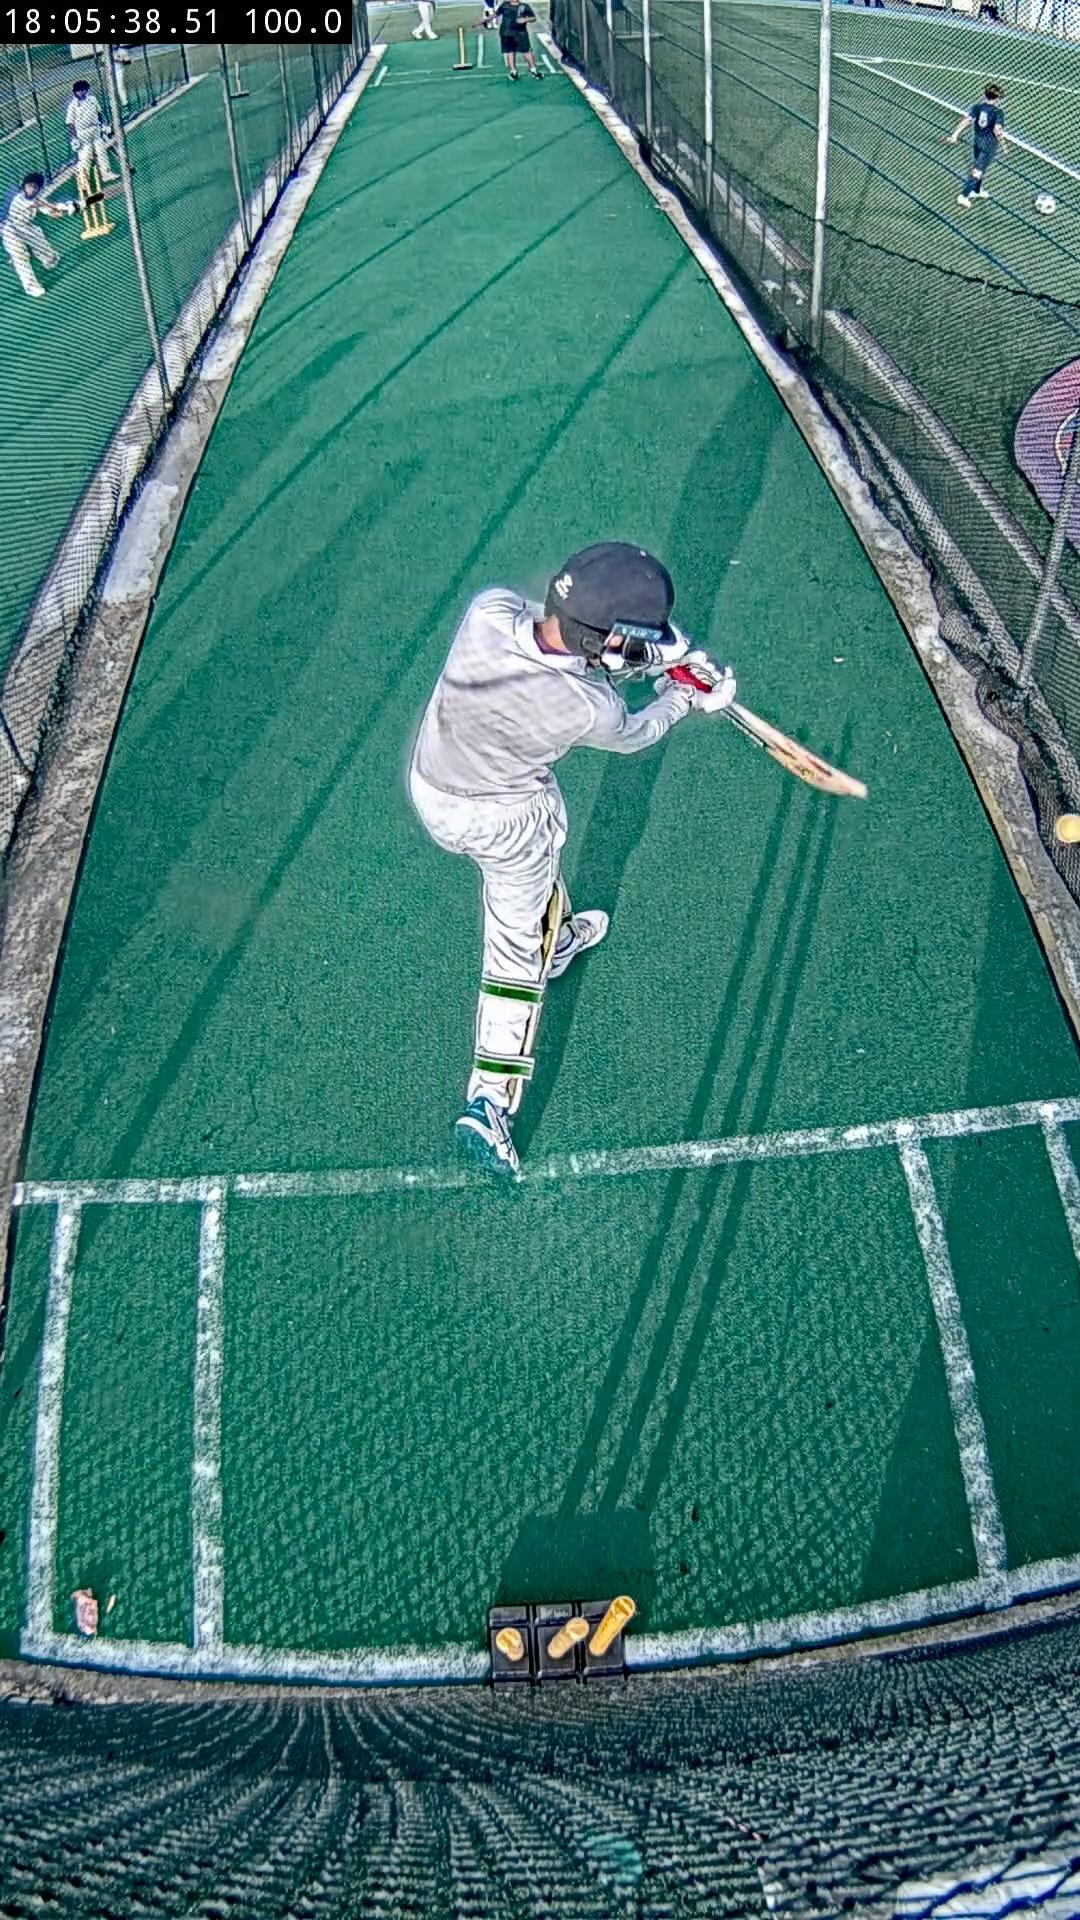ball: (1054, 814, 1080, 841)
bat: (728, 702, 866, 796)
gloves: (649, 622, 738, 712)
helmet: (547, 541, 675, 630)
stumps: (488, 1594, 637, 1681)
